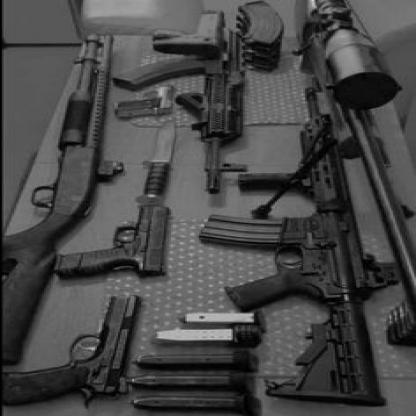Gun: (197, 85, 405, 408), (247, 1, 416, 344), (1, 29, 117, 366), (112, 8, 250, 195)
Knife: (139, 118, 179, 204)
Pistol: (1, 293, 145, 412), (52, 202, 174, 281), (113, 83, 177, 120)
